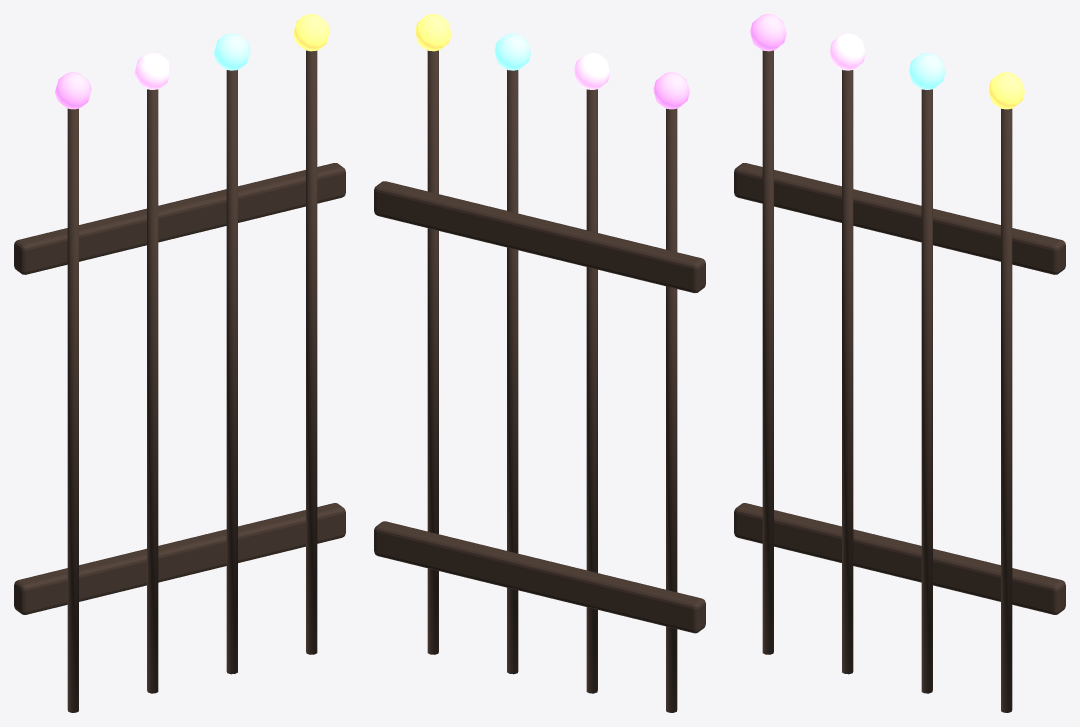
Rendered from wall_gear_staff_rack.glb.
The picture shows the model from 3 angles, left to right: view 1: azimuth 30°, elevation 25°; view 2: azimuth 150°, elevation 25°; view 3: azimuth 330°, elevation 25°; orthographic projection.
Parts seen in each view (by area): view 1: GD_wall_gear_staff_rack__m0, GD_wall_gear_staff_rack__m1, GD_wall_gear_staff_rack__m4, GD_wall_gear_staff_rack__m3, GD_wall_gear_staff_rack__m2; view 2: GD_wall_gear_staff_rack__m0, GD_wall_gear_staff_rack__m1, GD_wall_gear_staff_rack__m4, GD_wall_gear_staff_rack__m3, GD_wall_gear_staff_rack__m2; view 3: GD_wall_gear_staff_rack__m0, GD_wall_gear_staff_rack__m4, GD_wall_gear_staff_rack__m1, GD_wall_gear_staff_rack__m2, GD_wall_gear_staff_rack__m3.
Part boxes in pixels (x1,y1,x2,y2): GD_wall_gear_staff_rack__m0: (14, 50, 345, 712); GD_wall_gear_staff_rack__m1: (55, 72, 91, 109); GD_wall_gear_staff_rack__m4: (293, 14, 329, 51); GD_wall_gear_staff_rack__m3: (214, 33, 250, 70); GD_wall_gear_staff_rack__m2: (134, 52, 170, 89); GD_wall_gear_staff_rack__m0: (374, 50, 705, 712); GD_wall_gear_staff_rack__m1: (653, 72, 689, 109); GD_wall_gear_staff_rack__m4: (415, 14, 451, 51); GD_wall_gear_staff_rack__m3: (494, 33, 530, 70); GD_wall_gear_staff_rack__m2: (574, 52, 610, 89); GD_wall_gear_staff_rack__m0: (734, 50, 1065, 712); GD_wall_gear_staff_rack__m4: (988, 72, 1024, 109); GD_wall_gear_staff_rack__m1: (750, 14, 786, 51); GD_wall_gear_staff_rack__m2: (829, 33, 865, 70); GD_wall_gear_staff_rack__m3: (909, 52, 945, 89).
Bounding box in the file's own units: 0.9 × 1.68 × 0.13.
